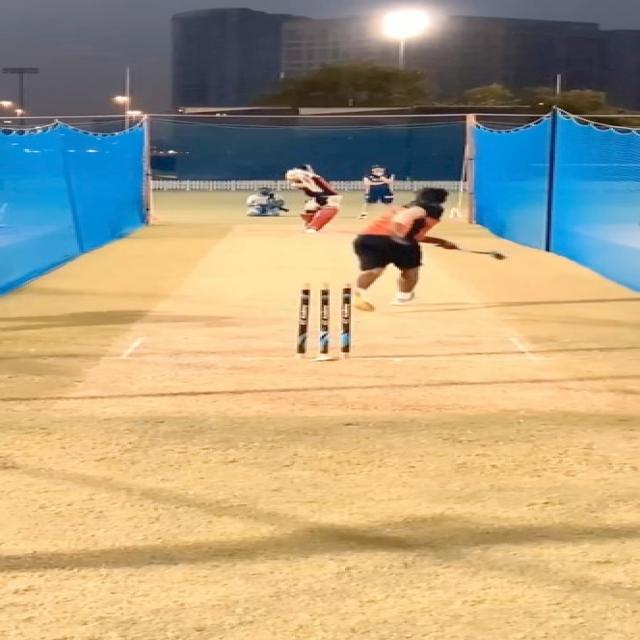batsman: (284, 163, 344, 234)
